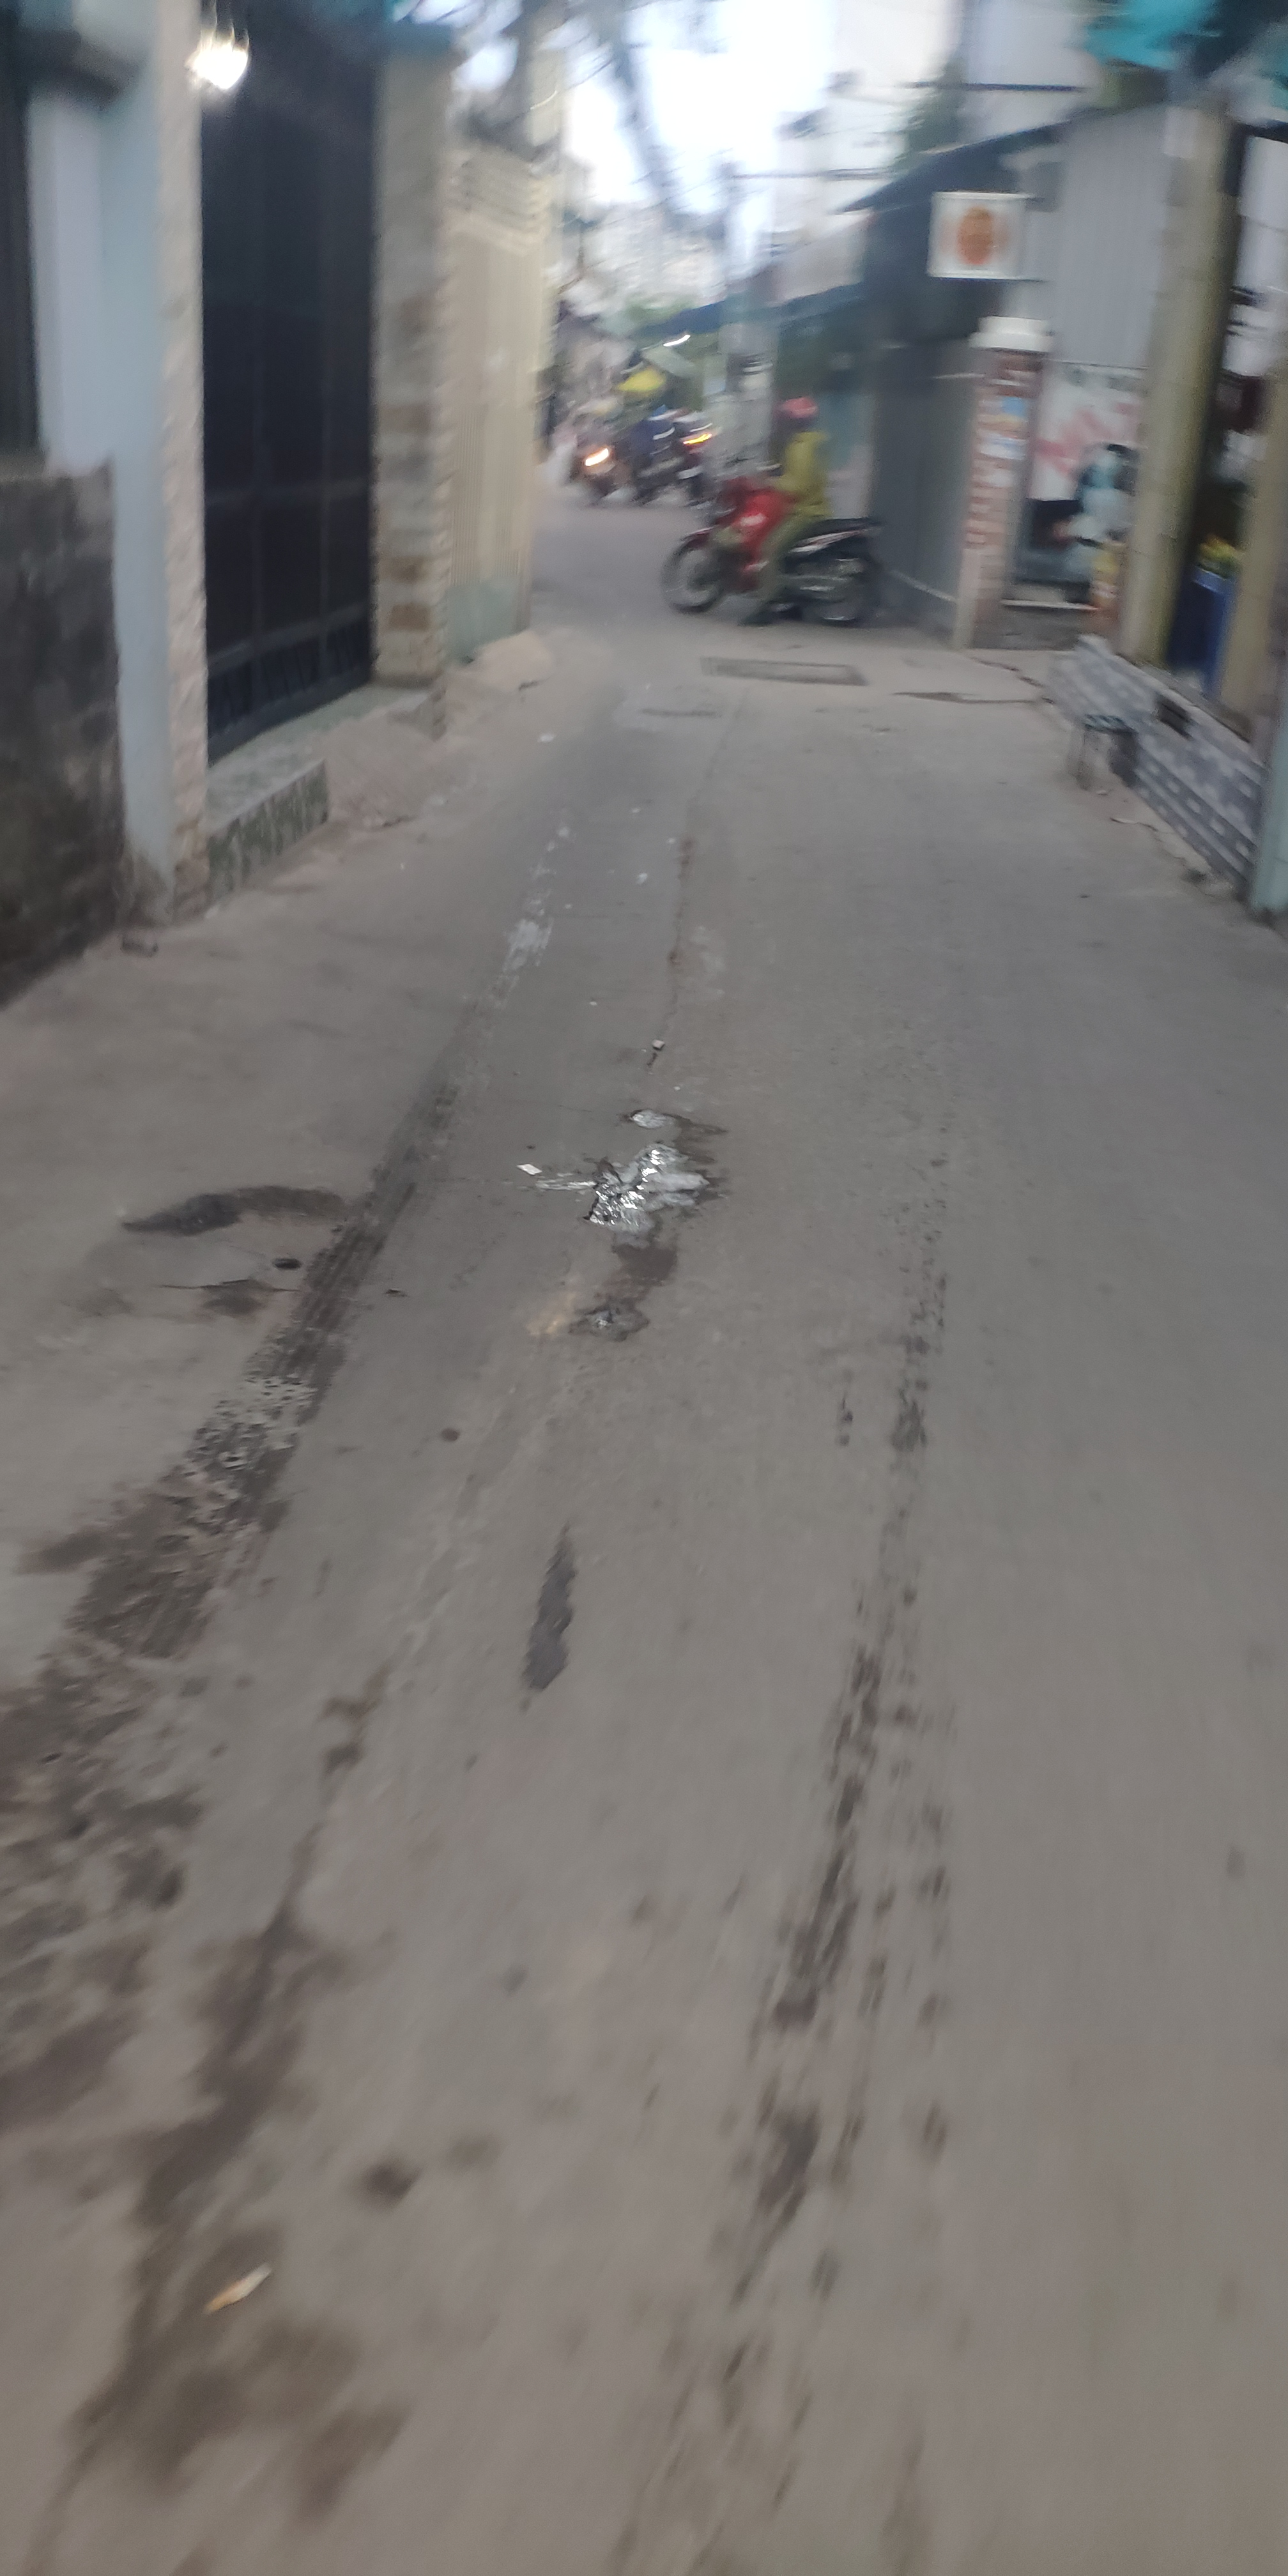hole: (519, 1091, 724, 1342), (71, 1188, 353, 1327)
